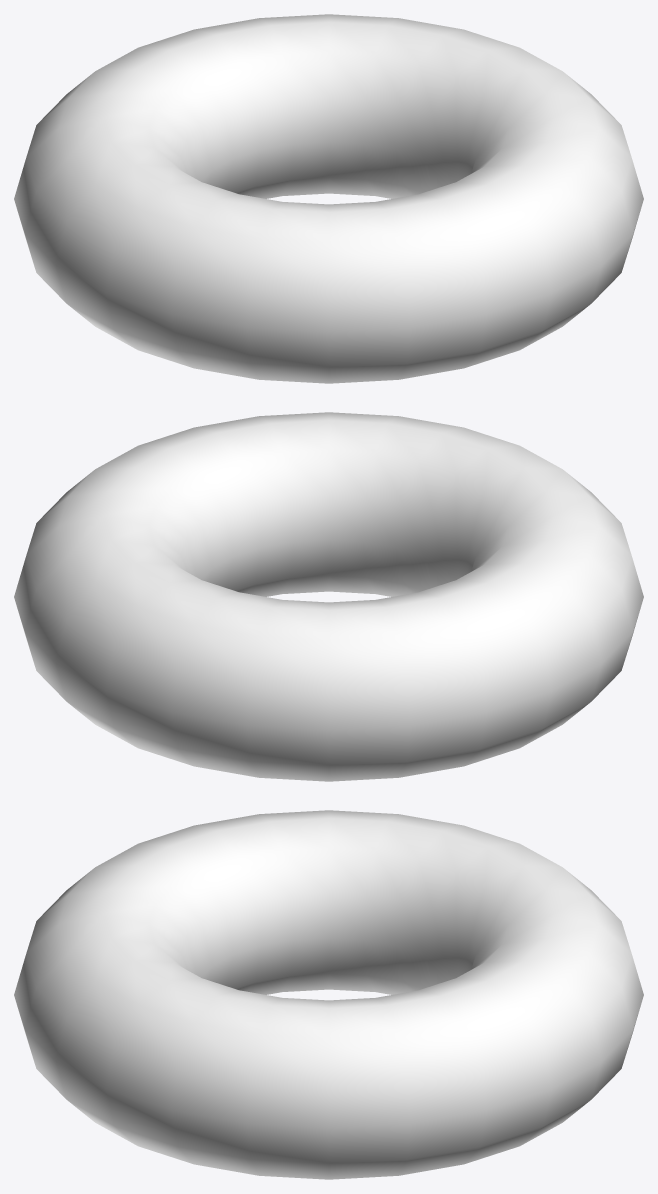
Rendered from Float.FBX.
The picture shows the model from 3 angles, top to bottom: view 1: azimuth 30°, elevation 25°; view 2: azimuth 150°, elevation 25°; view 3: azimuth 270°, elevation 25°; orthographic projection.
Parts seen in each view (by area): view 1: Float; view 2: Float; view 3: Float.
Part boxes in pixels (x1=…): Float: x1=14, y1=14, x2=643, y2=383; Float: x1=14, y1=412, x2=643, y2=781; Float: x1=14, y1=810, x2=643, y2=1179.
Size of the model in its own units: 1.4 by 0.4 by 1.4.
